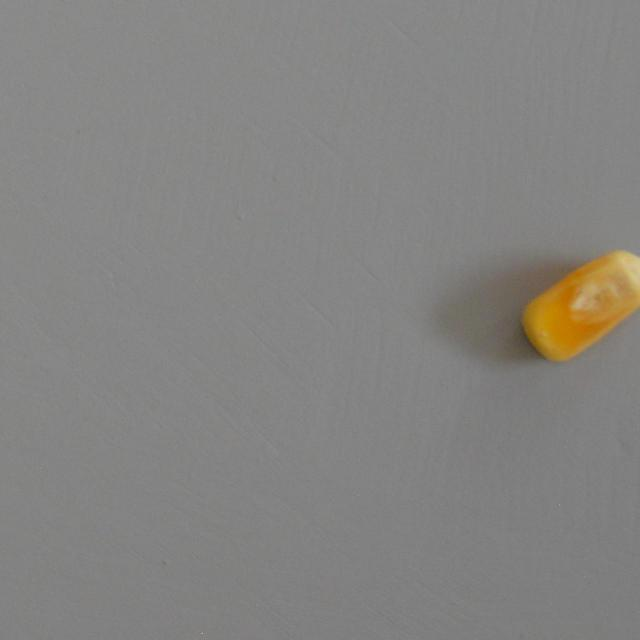entero: (509, 245, 640, 366)
